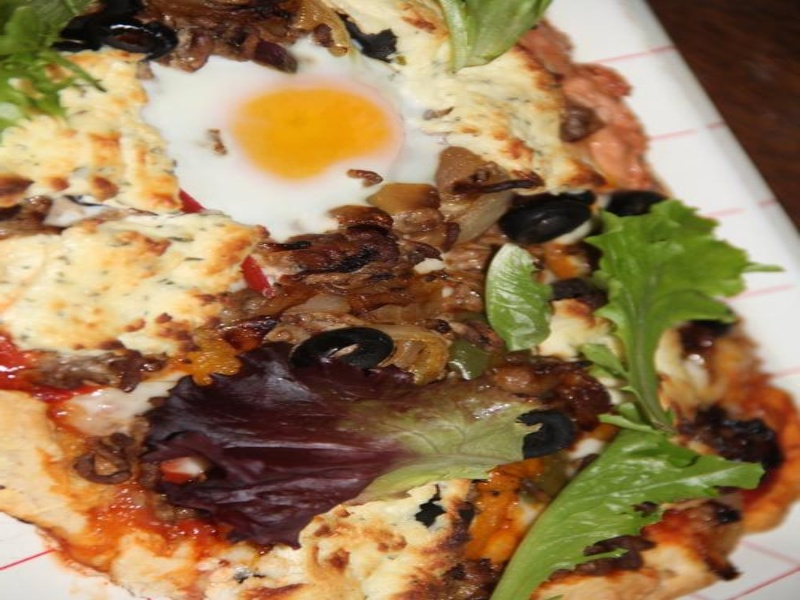oeuf: (219, 78, 402, 196)
